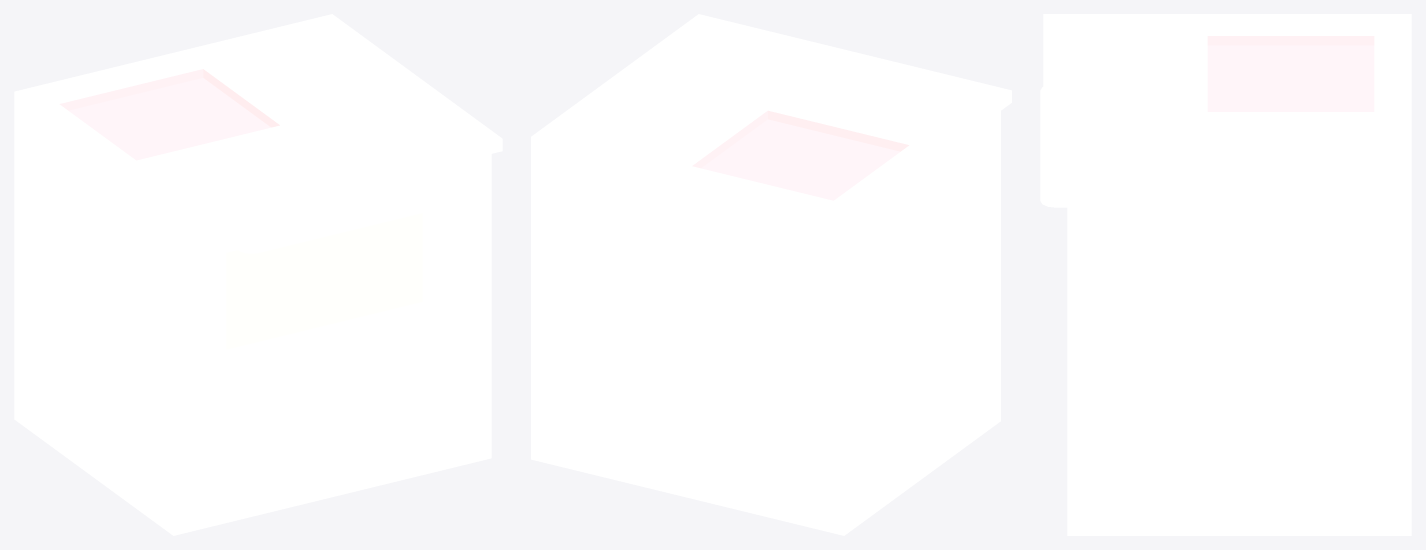
The model's file is Household_Assets_Counter_Oven.glb.
3 renders of one model, left to right at view 1: azimuth 30°, elevation 25°; view 2: azimuth 150°, elevation 25°; view 3: azimuth 270°, elevation 25°, orthographic. The views are drawn at different scales.
Visible parts, largest first — view 1: Kitchen_Counter_Oven; view 2: Kitchen_Counter_Oven; view 3: Kitchen_Counter_Oven.
Part boxes in pixels (x1,y1,x2,y2): Kitchen_Counter_Oven: (14,14,502,535); Kitchen_Counter_Oven: (531,14,1011,535); Kitchen_Counter_Oven: (1040,14,1411,535).
Bounding box in the file's own units: 1.02 × 1.01 × 0.9553.
